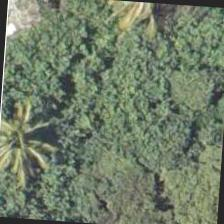Kelapa_Sawit: (0, 100, 58, 195)
